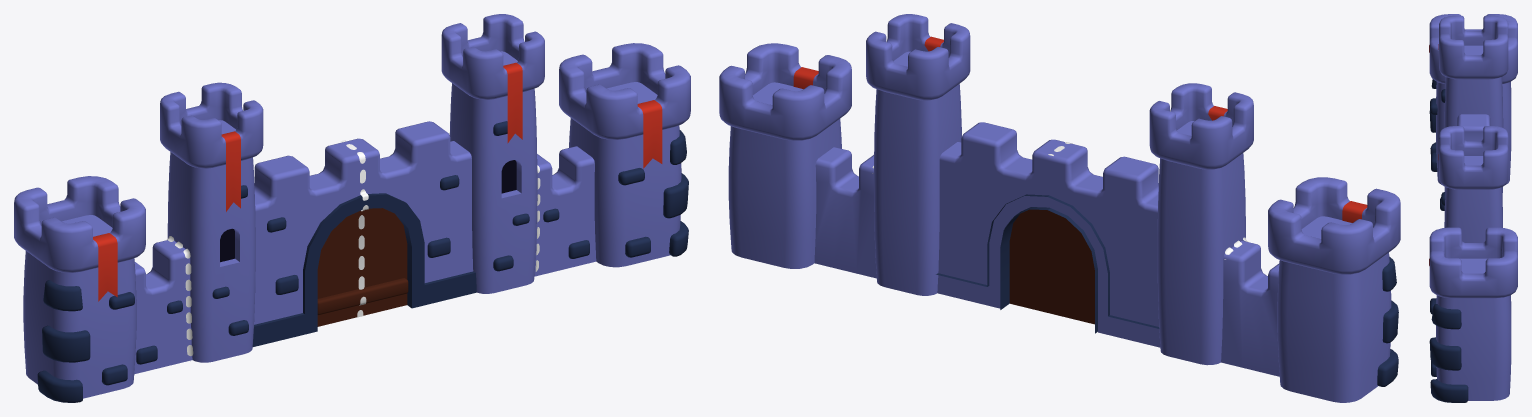
File: Castle_2.fbx
3 renders of one model, left to right at view 1: azimuth 30°, elevation 25°; view 2: azimuth 150°, elevation 25°; view 3: azimuth 270°, elevation 25°, orthographic. The views are drawn at different scales.
Parts seen in each view (by area): view 1: C2_Center_L, C2_Center_R, C2_Colon_L, C2_Colon_R, C2_Door_R, C2_Door_L, Center_Line; view 2: C2_Center_L, C2_Center_R, C2_Colon_L, C2_Colon_R, C2_Door_R, C2_Door_L; view 3: C2_Colon_R, C2_Center_L, C2_Center_R, C2_Colon_L.
Part boxes in pixels (x1=…): C2_Center_L: x1=160, y1=82, x2=364, y2=362; C2_Center_R: x1=344, y1=14, x2=544, y2=308; C2_Colon_L: x1=14, y1=176, x2=192, y2=402; C2_Colon_R: x1=534, y1=43, x2=690, y2=276; C2_Door_R: x1=360, y1=208, x2=408, y2=315; C2_Door_L: x1=317, y1=211, x2=363, y2=326; Center_Line: x1=340, y1=140, x2=368, y2=317; C2_Center_L: x1=1048, y1=83, x2=1253, y2=365; C2_Center_R: x1=866, y1=14, x2=1066, y2=309; C2_Colon_L: x1=1221, y1=177, x2=1400, y2=402; C2_Colon_R: x1=719, y1=43, x2=876, y2=278; C2_Door_R: x1=1009, y1=209, x2=1056, y2=314; C2_Door_L: x1=1057, y1=214, x2=1094, y2=324; C2_Colon_R: x1=1429, y1=227, x2=1517, y2=402; C2_Center_L: x1=1438, y1=15, x2=1508, y2=210; C2_Center_R: x1=1438, y1=126, x2=1508, y2=242; C2_Colon_L: x1=1429, y1=14, x2=1517, y2=184.
Bounding box in the file's own units: 288 × 43.18 × 104.
